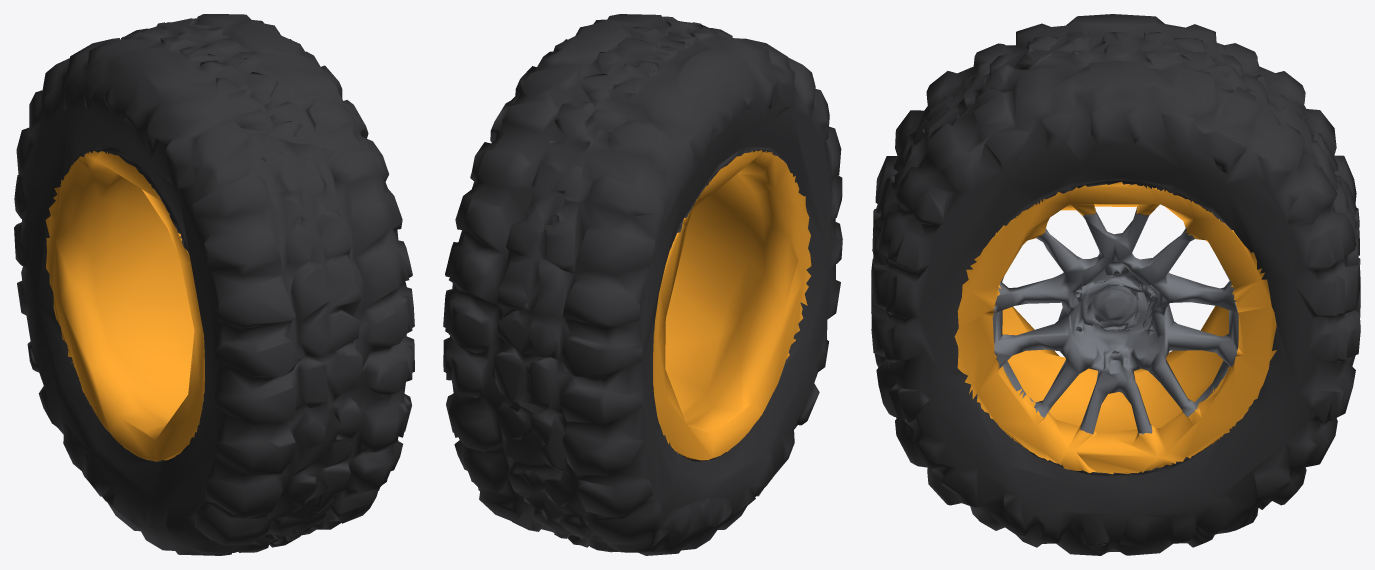
File: volt_wheel.glb
3 views of the same model, side by side, from view 1: azimuth 30°, elevation 25°; view 2: azimuth 150°, elevation 25°; view 3: azimuth 270°, elevation 25° (orthographic).
Visible parts, largest first — view 1: wheel; view 2: wheel; view 3: wheel.
Part boxes in pixels (bbox=[...]): wheel: bbox=[14, 14, 414, 555]; wheel: bbox=[443, 14, 842, 555]; wheel: bbox=[871, 14, 1360, 555].
Size of the model in its own units: 0.2742 by 0.6448 by 0.592.
